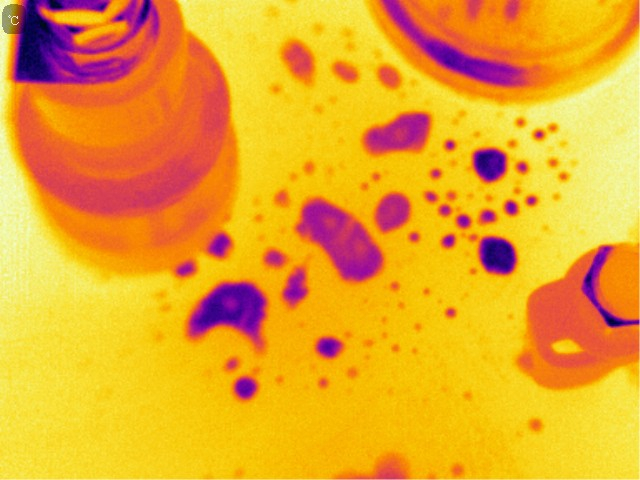Water: (292, 196, 383, 280), (185, 280, 269, 344), (517, 118, 569, 183), (361, 111, 431, 157), (322, 447, 417, 479), (278, 37, 315, 83), (477, 235, 516, 277), (375, 191, 410, 232), (469, 147, 506, 178), (357, 336, 410, 355), (522, 414, 550, 439), (501, 195, 525, 223), (314, 335, 343, 358), (479, 203, 503, 227), (354, 169, 383, 188), (377, 64, 399, 89), (332, 61, 356, 83), (417, 184, 439, 206), (312, 372, 334, 394), (209, 232, 229, 256), (298, 152, 316, 177), (235, 377, 256, 398), (459, 390, 485, 406), (524, 189, 541, 213), (423, 280, 440, 304), (449, 461, 473, 478), (346, 362, 364, 384), (272, 189, 291, 209), (389, 274, 407, 294), (177, 260, 197, 277), (265, 248, 285, 265), (441, 306, 461, 322), (440, 233, 458, 249), (390, 301, 413, 312), (552, 191, 565, 207), (377, 312, 391, 326), (442, 139, 456, 151), (407, 233, 419, 246)
